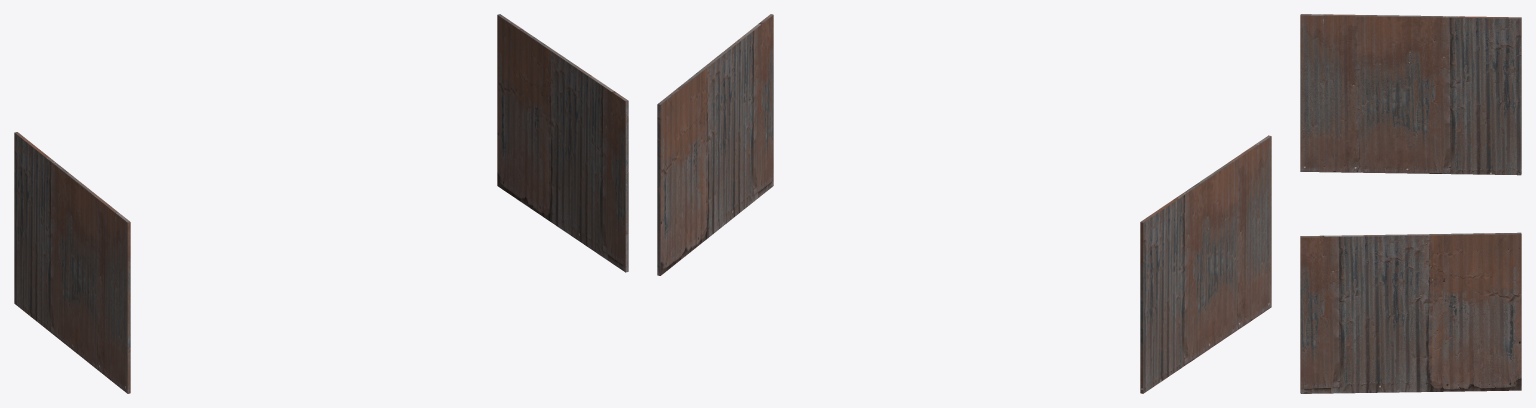
Rendered from SM_NeoLD_09_Toles_00.fbx.
3 renders of one model, left to right at view 1: azimuth 30°, elevation 25°; view 2: azimuth 150°, elevation 25°; view 3: azimuth 270°, elevation 25°, orthographic. The views are drawn at different scales.
Visible parts, largest first — view 1: SM_NeoLD_09_Toles_00; view 2: SM_NeoLD_09_Toles_00; view 3: SM_NeoLD_09_Toles_00.
Part boxes in pixels (x1,y1,x2,y2): SM_NeoLD_09_Toles_00: (14,14,628,393); SM_NeoLD_09_Toles_00: (657,14,1271,393); SM_NeoLD_09_Toles_00: (1300,14,1521,393).
Bounding box in the file's own units: 676 × 221 × 283.
